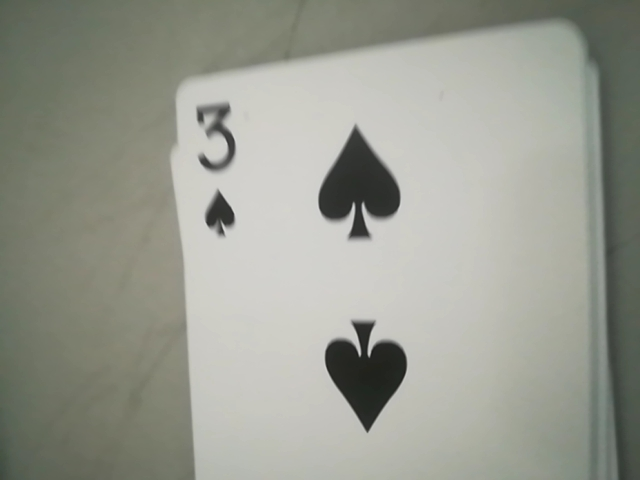ht 3: (179, 94, 265, 253)
